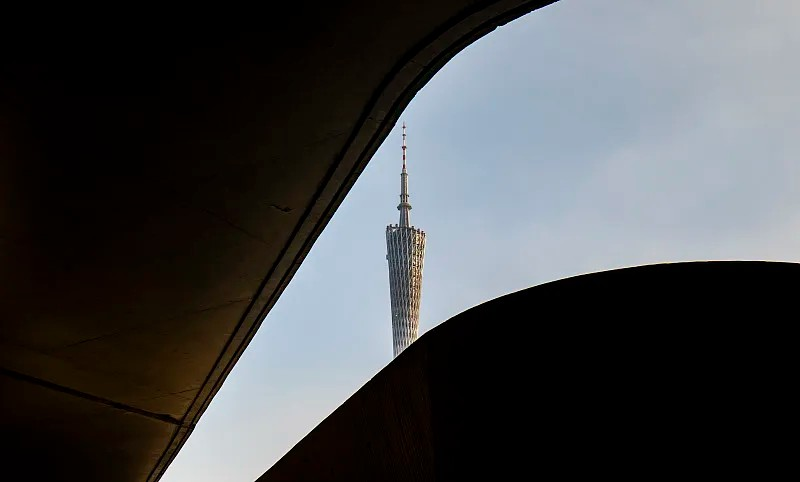Canton: (384, 120, 421, 364)
